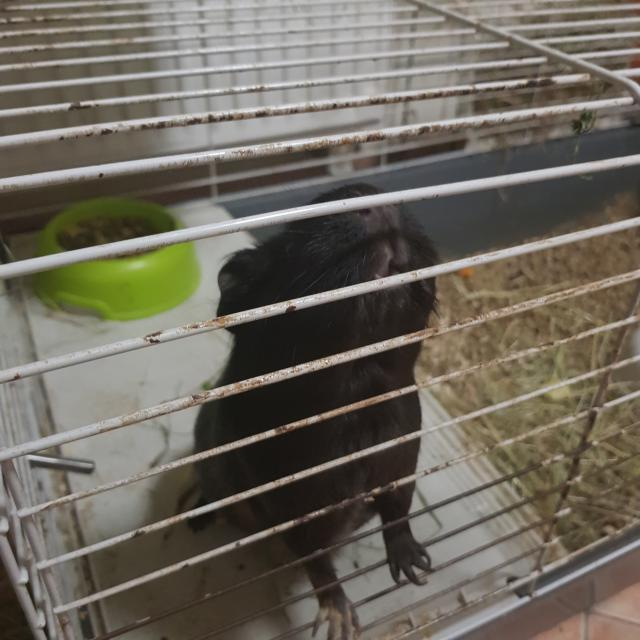guinea pig: (181, 180, 442, 638)
